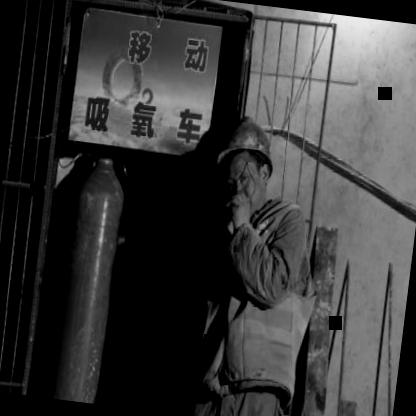helmet: (206, 102, 285, 228)
